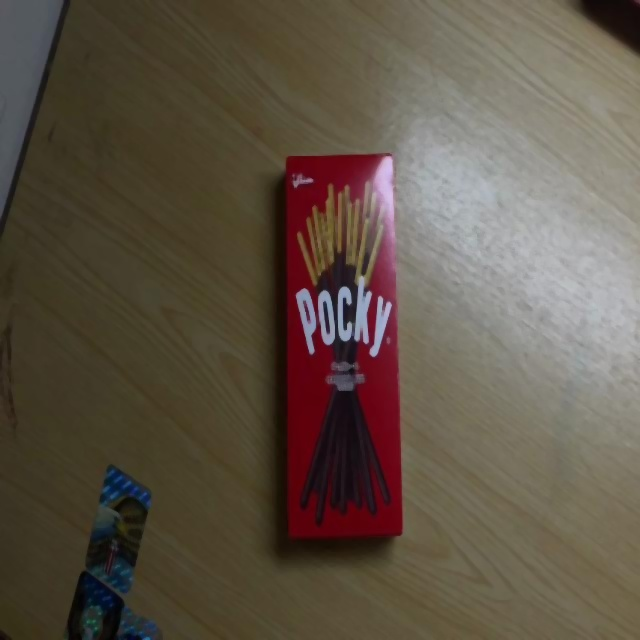Pocky: (285, 153, 405, 541)
